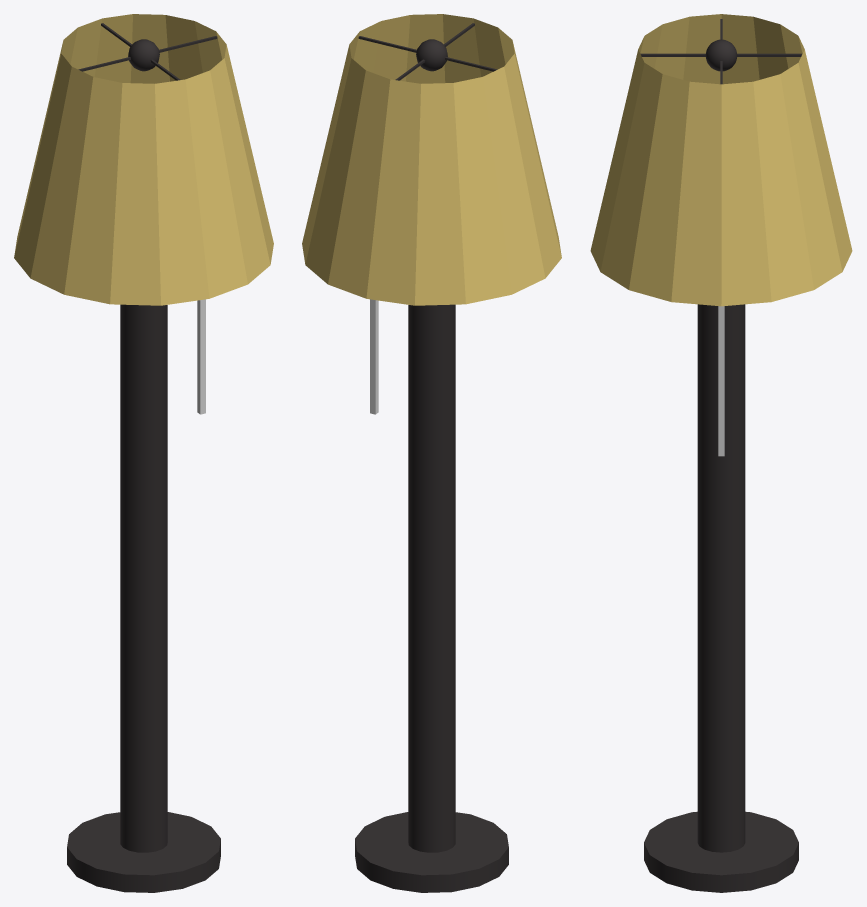
Rendered from FloorLamp.fbx.
3 renders of one model, left to right at view 1: azimuth 30°, elevation 25°; view 2: azimuth 150°, elevation 25°; view 3: azimuth 270°, elevation 25°, orthographic.
Parts seen in each view (by area): view 1: Veil, base, Cube, Top, Support; view 2: Veil, base, Cube, Top, Support; view 3: Veil, base, Cube, Top, Support.
Part boxes in pixels (x1,y1,x2,y2): Veil: (14, 14, 273, 305); base: (67, 304, 220, 892); Cube: (197, 299, 205, 414); Top: (128, 39, 159, 71); Support: (78, 23, 217, 80); Veil: (302, 14, 561, 305); base: (355, 304, 508, 892); Cube: (370, 299, 378, 414); Top: (416, 39, 447, 71); Support: (358, 23, 497, 80); Veil: (590, 14, 852, 306); base: (644, 304, 798, 892); Cube: (718, 306, 724, 456); Top: (705, 39, 737, 71); Support: (640, 19, 802, 84).
Size of the model in its own units: 55.18 by 190 by 55.18.
